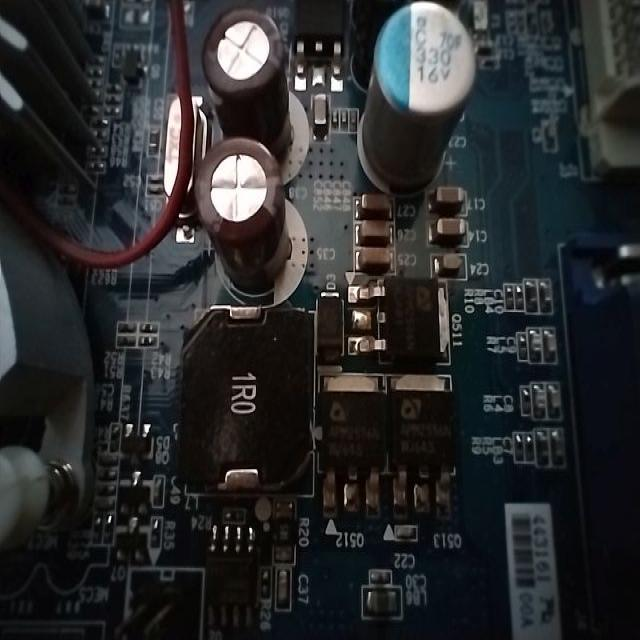capacitor: (347, 185, 424, 231), (418, 206, 492, 252), (358, 572, 402, 637), (427, 169, 477, 219), (420, 242, 477, 284), (342, 240, 398, 278), (268, 559, 299, 615)
resistor: (349, 188, 414, 230), (514, 380, 542, 434)
